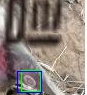text: (21, 70, 40, 91)
